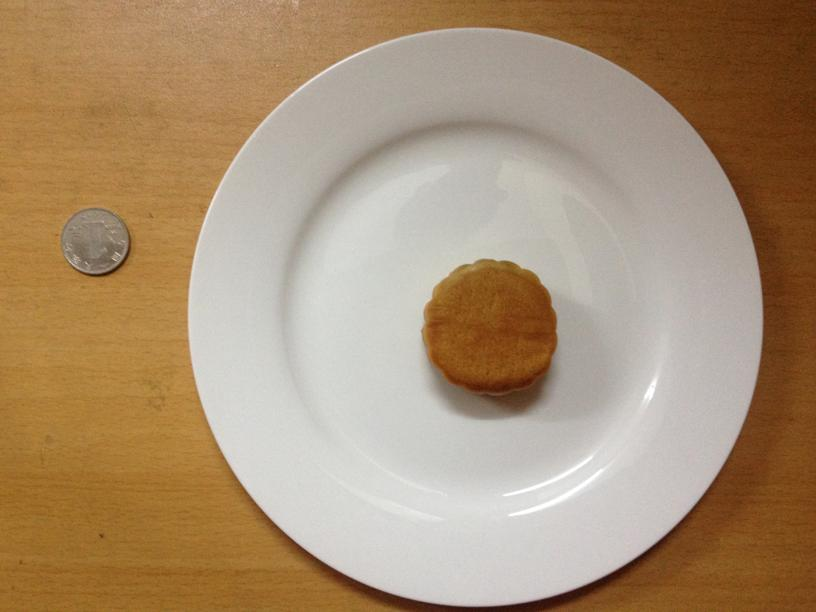coin: (58, 207, 131, 276)
mooncake: (421, 257, 558, 395)
